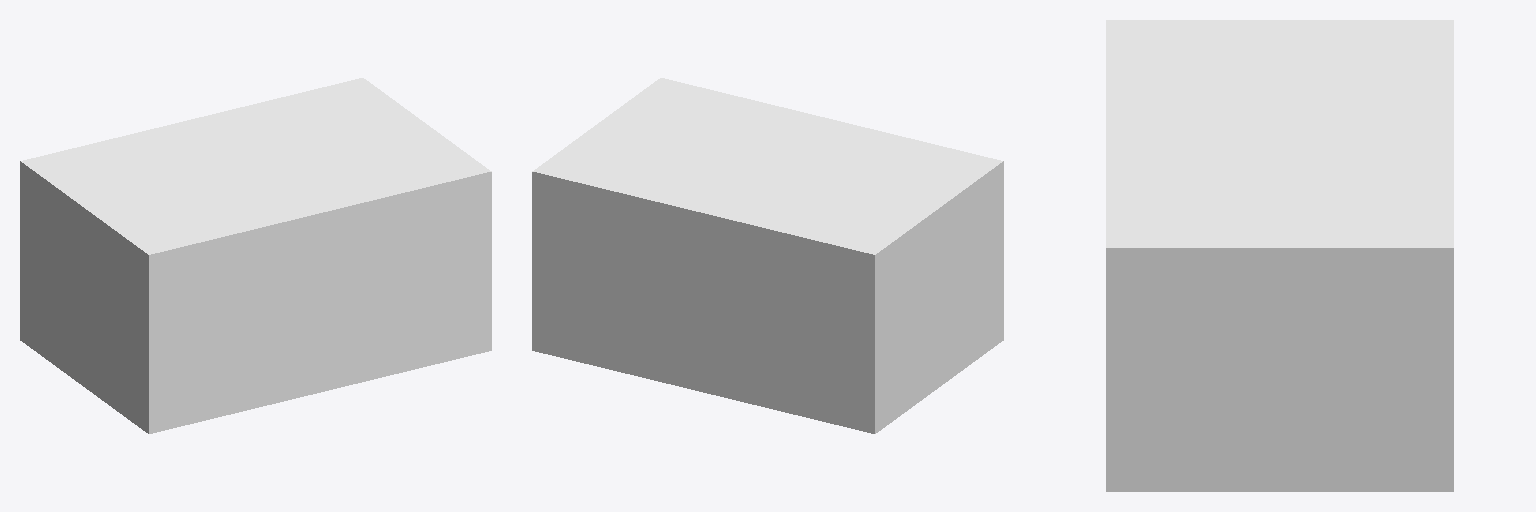
The robot description file, URDF, robot "box":
<?xml version="1.0" ?>
<robot name="box">
  <link name="baseLink">
    <contact>
      <lateral_friction value="1.0"/>
      <rolling_friction value="0.0"/>
      <contact_cfm value="0.0"/>
      <contact_erp value="1.0"/>
    </contact>
    <inertial>
      <origin rpy="0 0 0" xyz="0 0 0"/>
       <mass value="1"/>
       <inertia ixx="1" ixy="0" ixz="0" iyy="1" iyz="0" izz="1"/>
    </inertial>
    <visual>
      <origin rpy="0 0 0" xyz="0 0 0"/>
      <geometry>
		    <mesh filename="box.obj" scale="1 1 1"/>
      </geometry>
      <material name="white">
        <color rgba="1 1 1 1"/>
      </material>
    </visual>
    <collision>
      <origin rpy="0 0 0" xyz="0 0 0"/>
      <geometry>
	      <mesh filename="box.obj" scale="1 1 1"/>
      </geometry>
    </collision>
  </link>
</robot>

--- Facts derived from the render (not from the file) ---
The picture shows the robot from 3 angles, left to right: view 1: azimuth 30°, elevation 25°; view 2: azimuth 150°, elevation 25°; view 3: azimuth 270°, elevation 25°; orthographic projection.
Model box with 1 links and 0 joints (none), rooted at baseLink, posed every joint at zero.
Visible links, largest first — view 1: baseLink; view 2: baseLink; view 3: baseLink.
Link boxes in pixels (left/top/right/bottom): baseLink: left=20, top=78, right=491, bottom=433; baseLink: left=532, top=78, right=1003, bottom=433; baseLink: left=1106, top=20, right=1453, bottom=491.
Size in the robot's own frame: 0.3308 by 0.2146 by 0.1654 metres.
1 mesh visuals loaded from 1 distinct referenced files (1 OBJ).